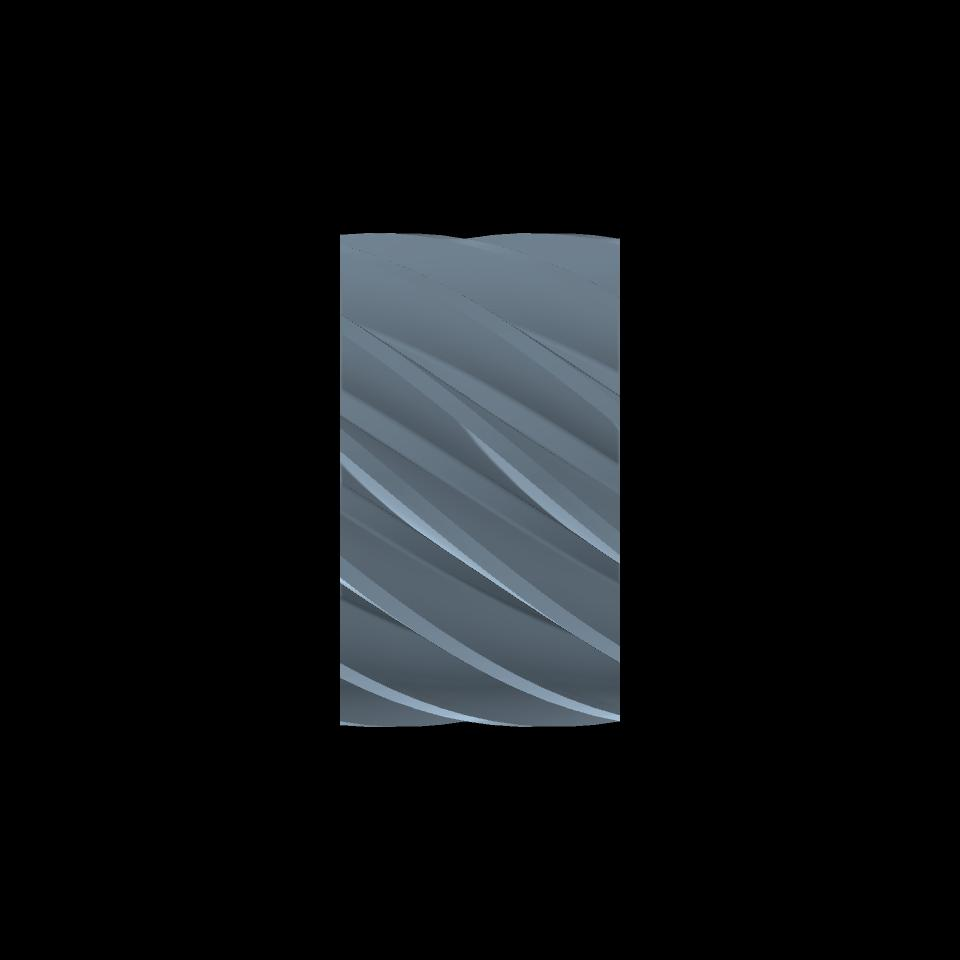Helical: (340, 233, 620, 727)
